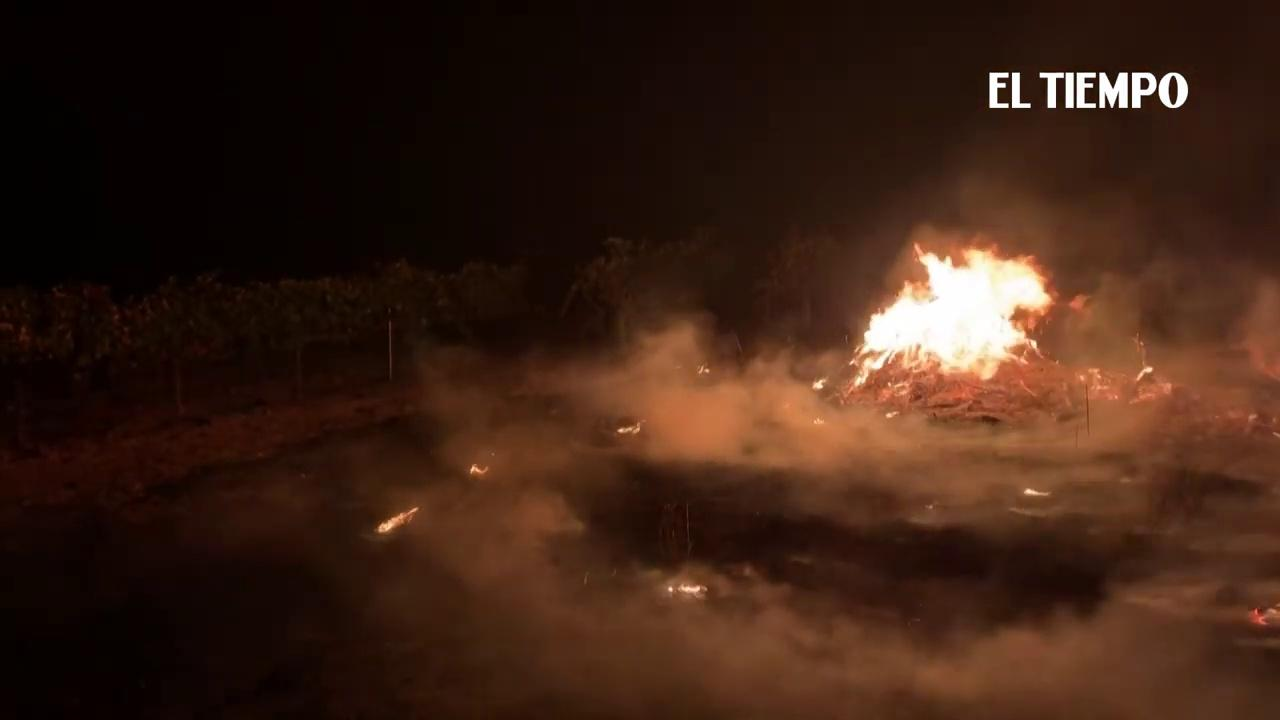Fire: (827, 229, 1053, 386), (371, 506, 419, 536), (675, 579, 712, 593), (613, 420, 644, 436), (809, 373, 826, 394), (470, 459, 489, 477)
